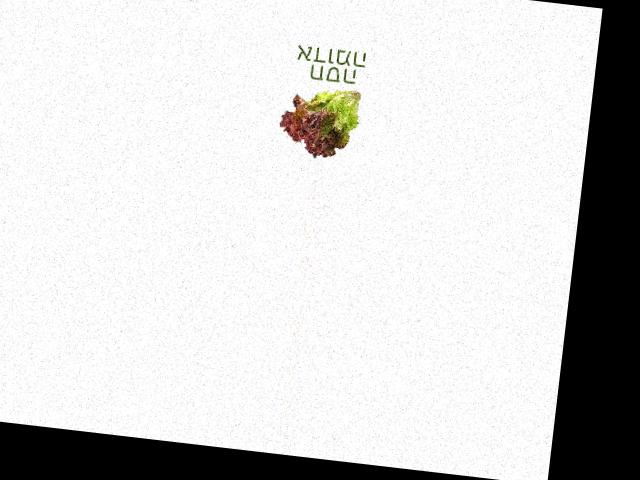lettuce: (274, 79, 370, 163)
